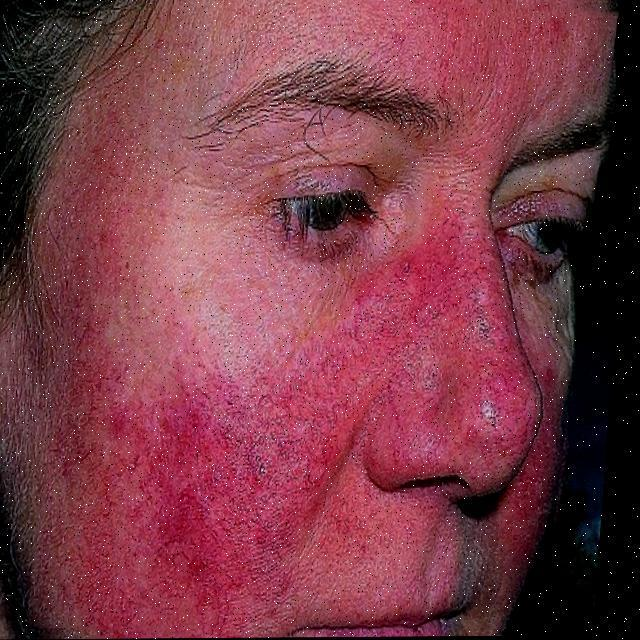redness: (66, 0, 601, 629)
